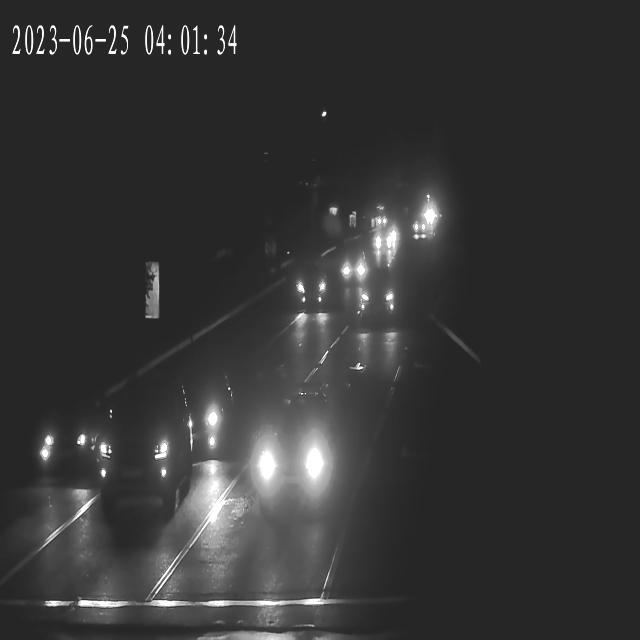Car: (88, 379, 192, 495), (245, 406, 335, 510), (167, 368, 237, 460), (34, 395, 111, 475), (352, 274, 397, 320), (289, 267, 329, 307), (334, 250, 372, 284), (372, 231, 398, 254), (369, 229, 395, 251), (410, 220, 434, 237), (370, 214, 389, 228)
